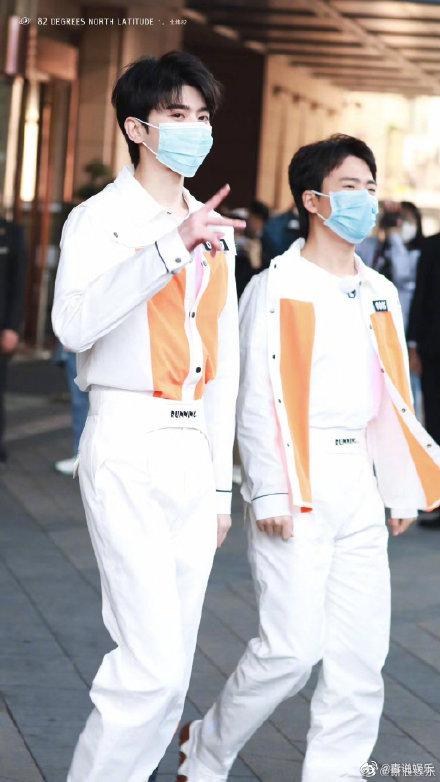OK: (153, 95, 213, 178), (324, 167, 377, 245), (396, 214, 420, 244)
